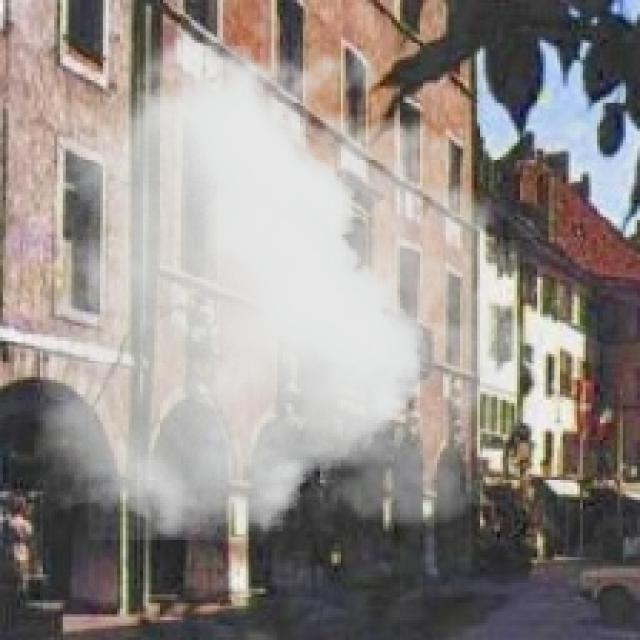smoke: (34, 14, 560, 540)
